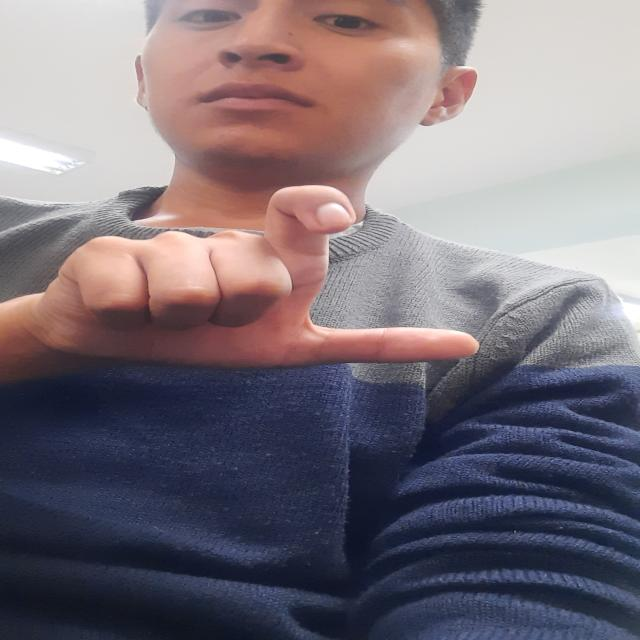G: (0, 174, 516, 370)
